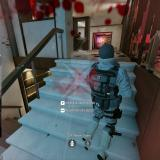Character: (82, 43, 135, 160), (74, 31, 82, 53)
Head: (98, 43, 115, 60), (78, 32, 81, 35)
